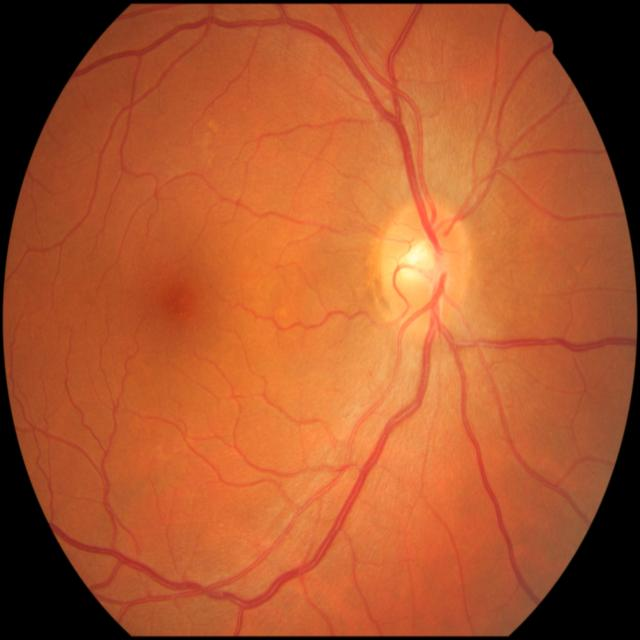OC: (398, 241, 432, 281)
OD: (378, 204, 473, 326)
